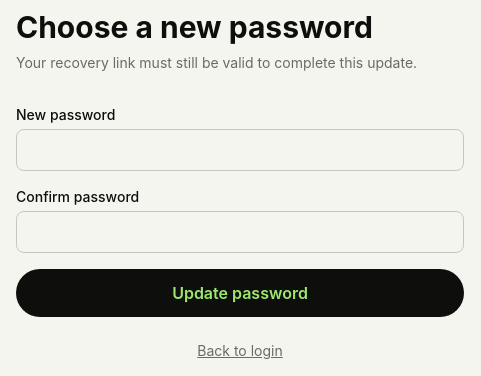
Test: ResetPasswordPage › accepts recovery events when storage read fails
The image size is (481, 376).
Type "new-password-123" into the password field labelled "New password".
click(240, 150); type("new-password-123")  # box [16,129,464,171]
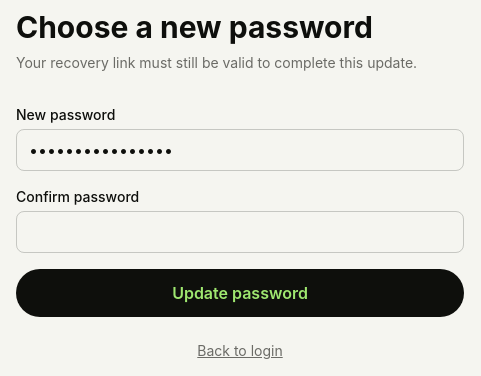
Type "new-password-123" into the password field labelled "Confirm password".
click(240, 232); type("new-password-123")  # box [16,211,464,253]
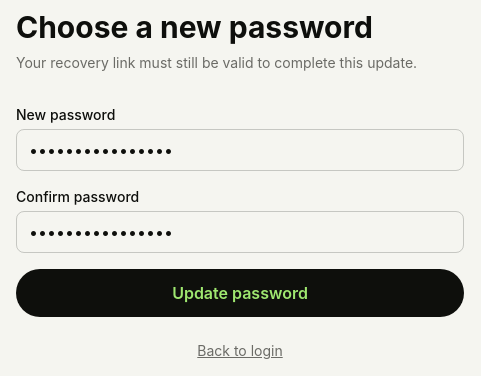
Click the button "Update password".
click(240, 293)  # box [16,269,464,317]
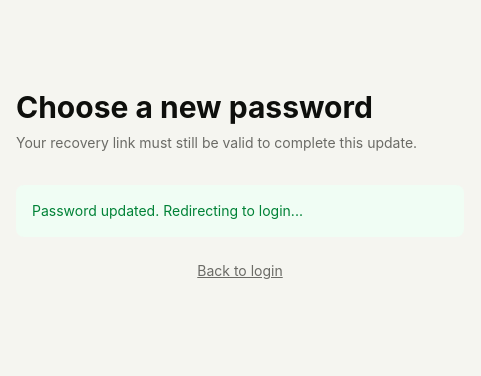
Result: the message shows "Password updated" at [32,202,303,219]
